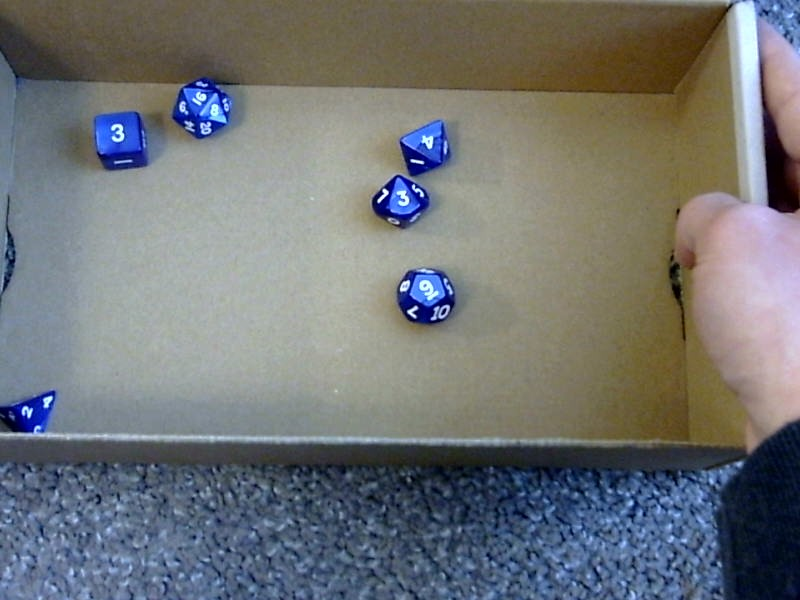d10 3: (373, 170, 429, 230)
d12 9: (393, 264, 457, 327)
d20 16: (169, 75, 233, 138)
d4 2: (0, 385, 60, 436)
d6 3: (89, 108, 151, 173)
d8 4: (396, 120, 453, 177)
